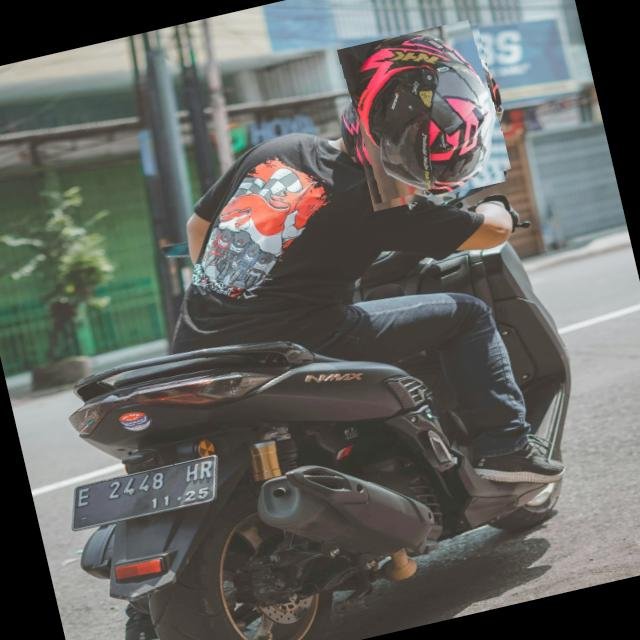Helmet: (330, 24, 512, 206)
